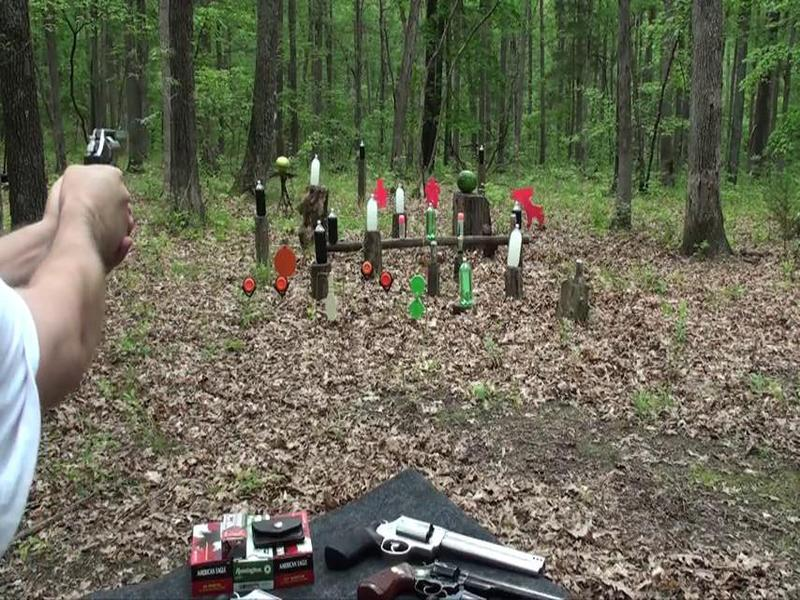Revolver: (69, 113, 153, 210)
